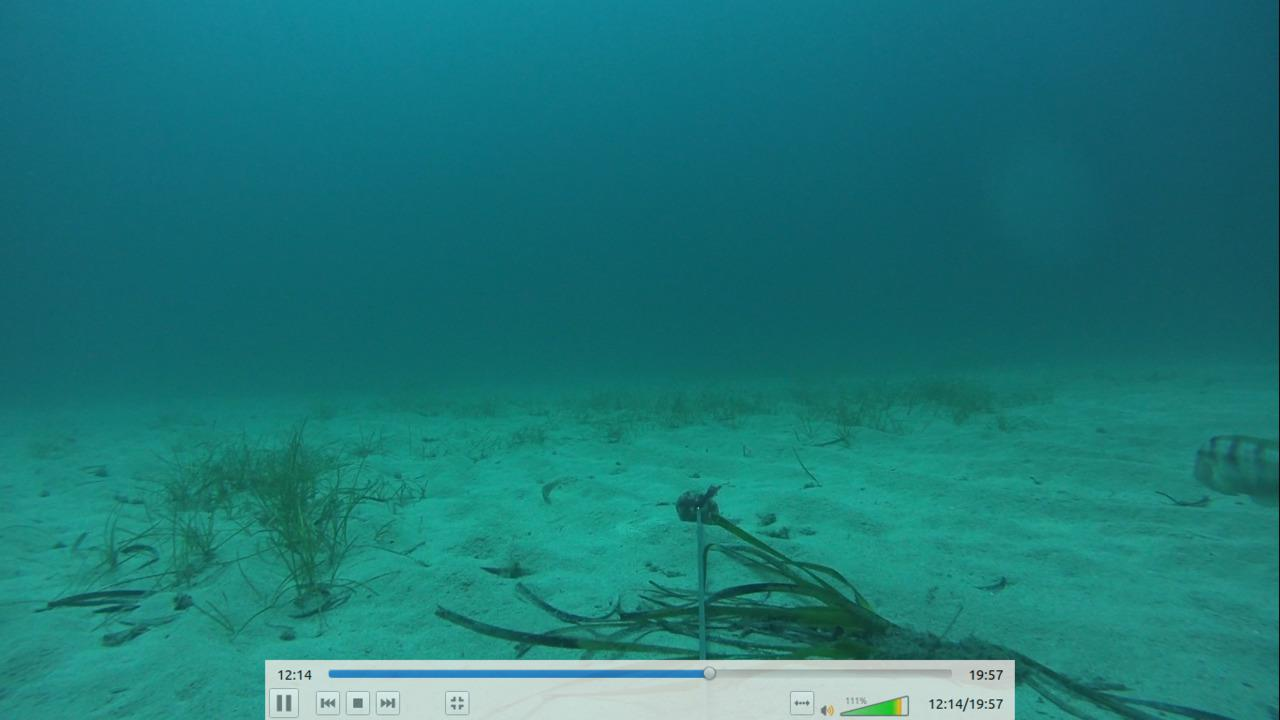raor: (1190, 428, 1277, 503)
